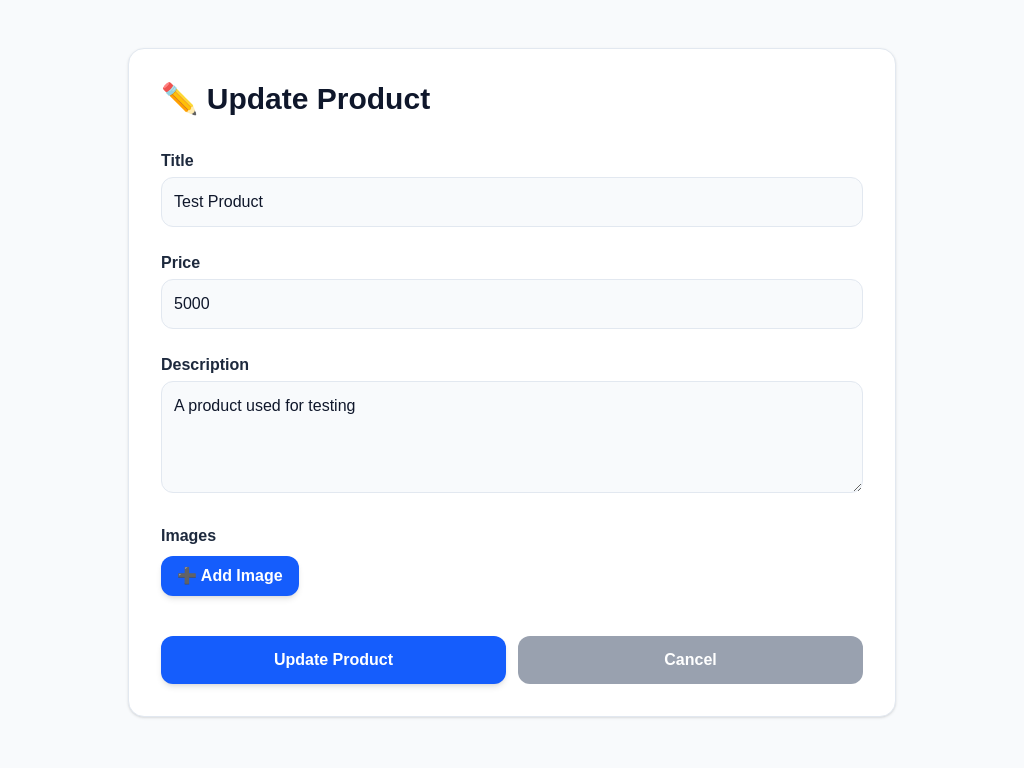
it: 🧪 Update Product Page (with props) › shows error message if API update fails
Click the button "Update Product". click: click(334, 660)
box: [161,636,506,684]
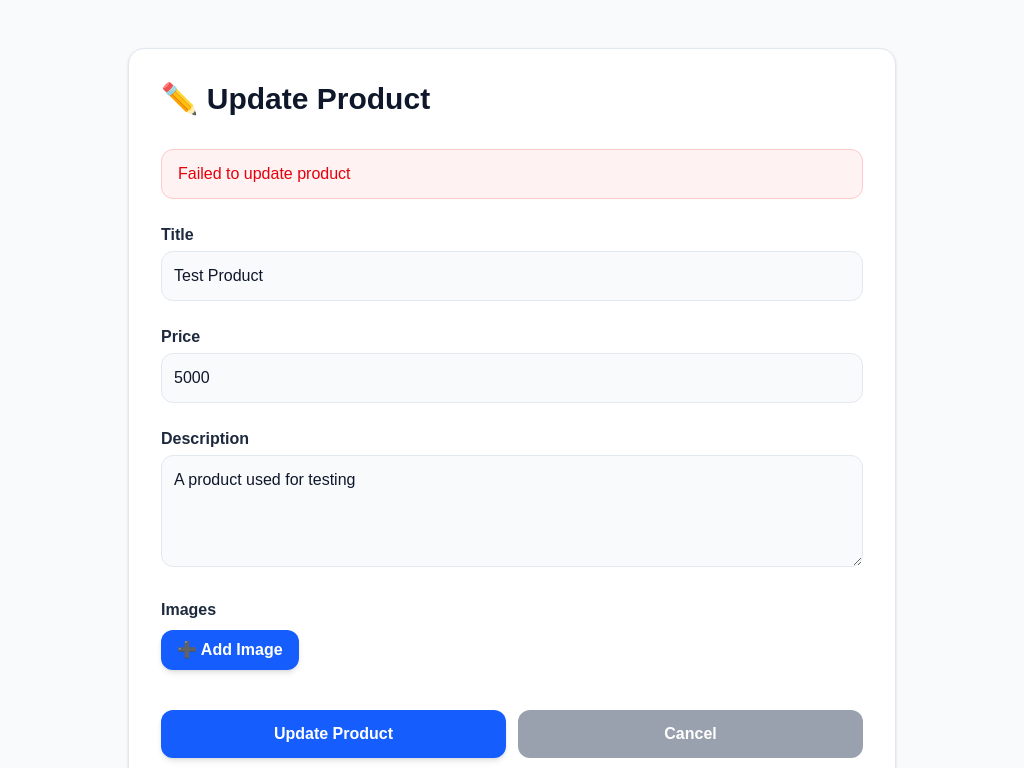
Expected: the text "Failed to update product" is shown, [161,149,863,199]
